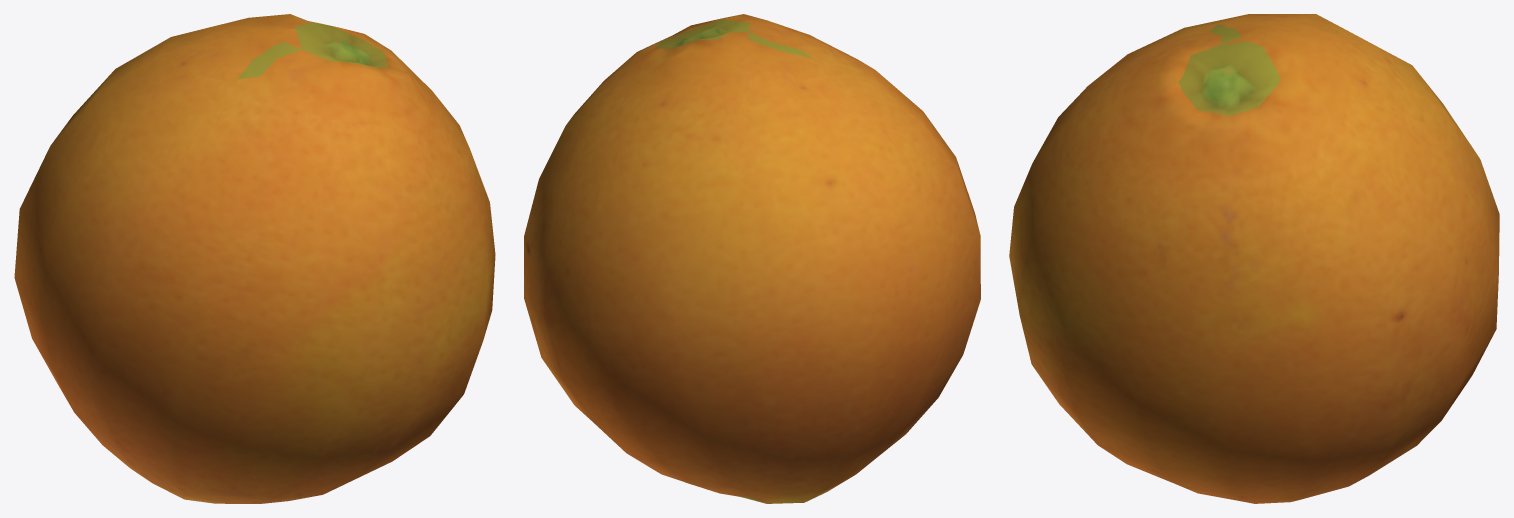
Rendered from pg_Orange_03.fbx.
The picture shows the model from 3 angles, left to right: view 1: azimuth 30°, elevation 25°; view 2: azimuth 150°, elevation 25°; view 3: azimuth 270°, elevation 25°; orthographic projection. The views are drawn at different scales.
Parts seen in each view (by area): view 1: pg_Orange_03_a_LOD0, pg_Orange_03_a_col; view 2: pg_Orange_03_a_LOD0, pg_Orange_03_a_col; view 3: pg_Orange_03_a_LOD0, pg_Orange_03_a_col.
Part boxes in pixels (x1,y1,x2,y2): pg_Orange_03_a_LOD0: (14, 14, 495, 503); pg_Orange_03_a_col: (238, 22, 388, 79); pg_Orange_03_a_LOD0: (524, 14, 980, 503); pg_Orange_03_a_col: (656, 19, 812, 502); pg_Orange_03_a_LOD0: (1009, 14, 1499, 503); pg_Orange_03_a_col: (1178, 24, 1280, 115).
Size of what is drawn, in the model's own units: 7.86 by 8.43 by 8.01.
